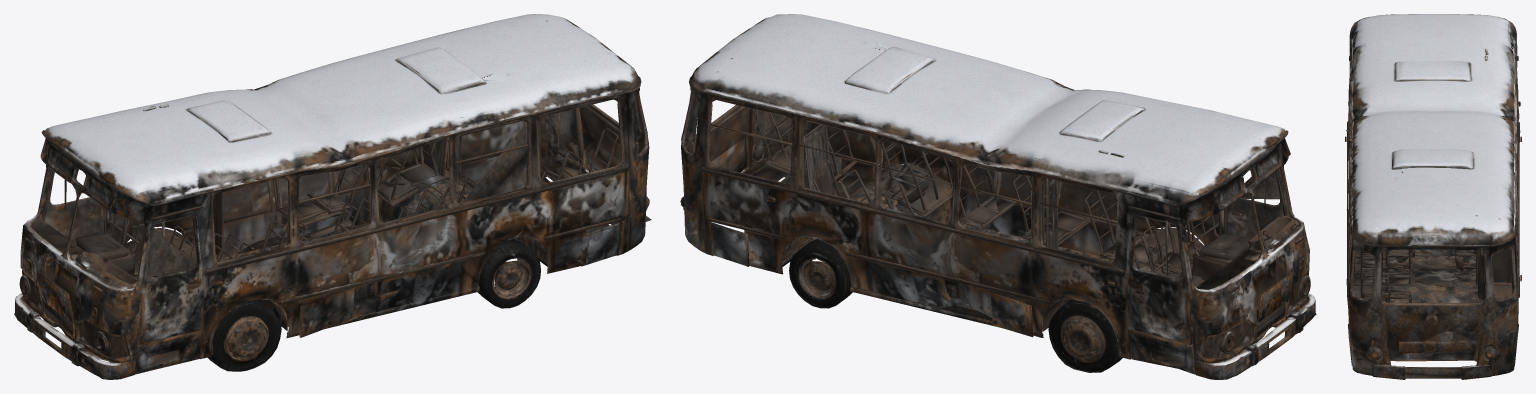
File: road_burned_bus.glb
3 views of the same model, side by side, from view 1: azimuth 30°, elevation 25°; view 2: azimuth 150°, elevation 25°; view 3: azimuth 270°, elevation 25° (orthographic). The views are drawn at different scales.
Size of the model in its own units: 0.9575 by 0.3525 by 0.3081.
1 material, 1 textured.
